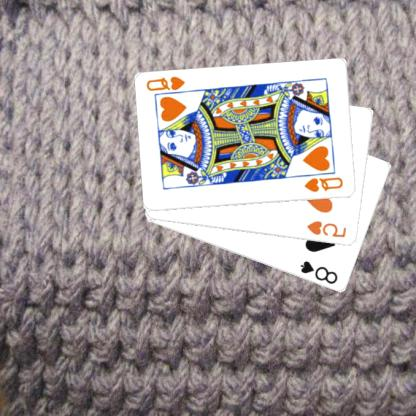5H: (306, 219, 350, 240)
8S: (300, 258, 341, 286)
QH: (146, 74, 194, 98), (304, 175, 346, 194)
